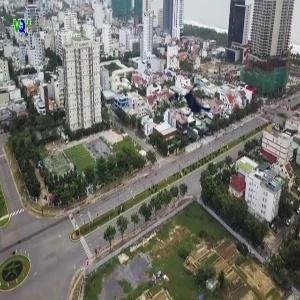drone: (177, 80, 224, 127)
